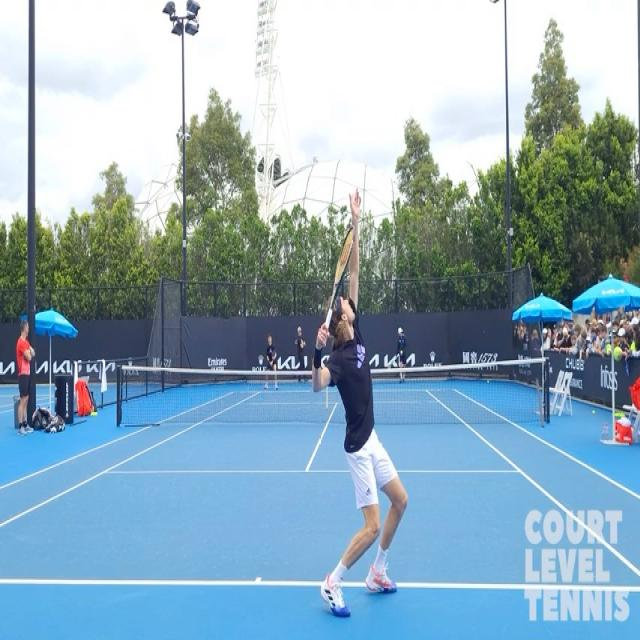serve_hit: (306, 170, 427, 623)
